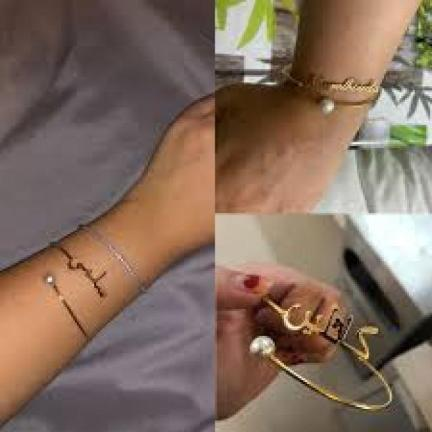Nail: (230, 271, 275, 296)
